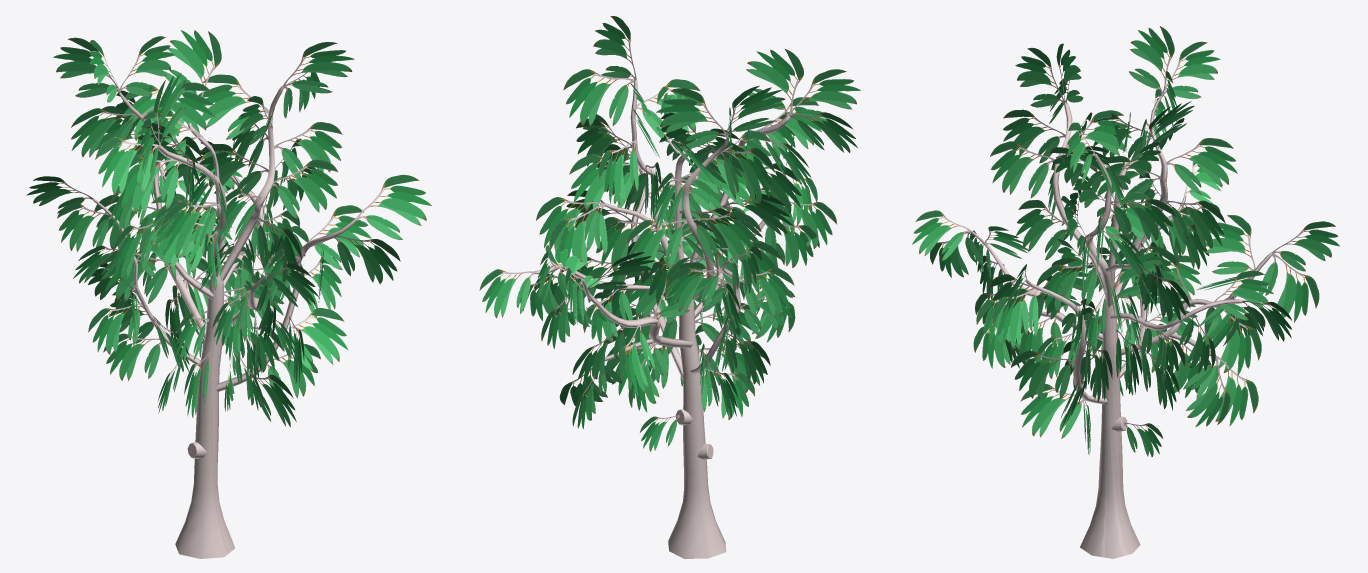
File: Tree3.obj
3 renders of one model, left to right at view 1: azimuth 30°, elevation 25°; view 2: azimuth 150°, elevation 25°; view 3: azimuth 270°, elevation 25°, orthographic. The views are drawn at different scales.
Visible parts, largest first — view 1: Main Tree_03, Tree_03 Branches B11 pPlane7, Tree_03 Branches B7 pPlane58, Tree_03 Branches B6 pPlane68, Tree_03 B4 Branches pPlane4, Tree_03 Branches B7 pPlane18, Tree_03 Branches B11 pPlane55, Tree_03 Branches B7 pPlane29, Tree_03 Branches B6 pPlane82, Tree_03 Branches B7 pPlane74, Tree_03 Branches B6 pPlane33, Tree_03 Branches B11 pPlane53 (+56 smaller); view 2: Main Tree_03, Tree_03 Branches B7 pPlane19, Tree_03 Branches B8 pPlane91, Tree_03 Branches B8 pPlane88, Tree_03 Branches B7 pPlane44, Tree_03 Branches B6 pPlane93, Tree_03 Branches B6 pPlane3, Tree_03 Branches B8 pPlane53, Tree_03 Branches B7 pPlane30, Tree_03 Branches B8 pPlane51, Tree_03 Branches B7 pPlane9, Tree_03 Branches B14 pPlane3 (+63 smaller); view 3: Main Tree_03, Tree_03 Branches B8 pPlane52, Tree_03 Branches B6 pPlane32, Tree_03 Branches B10 pPlane19, Tree_03 Branches B11 pPlane54, Tree_03 Branches B11 pPlane56, Tree_03 Branches B8 pPlane92, Tree_03 Branches B10 pPlane62, Tree_03 Branches B10 pPlane44, Tree_03 Branches B7 pPlane84, Tree_03 Branches B11 pPlane53, Tree_03 Branches B10 pPlane9 (+49 smaller).
Part boxes in pixels (x1,y1,x2,y2): Main Tree_03: (175,272,235,558); Tree_03 Branches B11 pPlane7: (356,174,431,239); Tree_03 Branches B7 pPlane58: (272,159,337,218); Tree_03 Branches B6 pPlane68: (95,137,158,195); Tree_03 B4 Branches pPlane4: (164,30,221,96); Tree_03 Branches B7 pPlane18: (282,42,354,93); Tree_03 Branches B11 pPlane55: (287,308,347,370); Tree_03 Branches B7 pPlane29: (198,74,269,139); Tree_03 Branches B6 pPlane82: (162,201,220,257); Tree_03 Branches B7 pPlane74: (274,122,342,177); Tree_03 Branches B6 pPlane33: (117,155,181,213); Tree_03 Branches B11 pPlane53: (334,236,400,283); Main Tree_03: (668,300,726,558); Tree_03 Branches B7 pPlane19: (563,69,635,126); Tree_03 Branches B8 pPlane91: (656,88,727,149); Tree_03 Branches B8 pPlane88: (692,211,761,263); Tree_03 Branches B7 pPlane44: (549,203,607,270); Tree_03 Branches B6 pPlane93: (746,48,803,116); Tree_03 Branches B6 pPlane3: (790,69,860,123); Tree_03 Branches B8 pPlane53: (720,147,774,204); Tree_03 Branches B7 pPlane30: (569,154,641,211); Tree_03 Branches B8 pPlane51: (625,220,687,274); Tree_03 Branches B7 pPlane9: (536,197,605,251); Tree_03 Branches B14 pPlane3: (479,269,535,318); Main Tree_03: (1080,296,1140,558); Tree_03 Branches B8 pPlane52: (1166,138,1237,194); Tree_03 Branches B6 pPlane32: (990,141,1054,197); Tree_03 Branches B10 pPlane19: (1259,253,1319,322); Tree_03 Branches B11 pPlane54: (1011,350,1074,398); Tree_03 Branches B11 pPlane56: (1020,383,1084,438); Tree_03 Branches B8 pPlane92: (1129,26,1174,96); Tree_03 Branches B10 pPlane62: (1205,215,1255,274); Tree_03 Branches B10 pPlane44: (1183,357,1230,426); Tree_03 Branches B7 pPlane84: (1036,263,1099,312); Tree_03 Branches B11 pPlane53: (992,288,1038,348); Tree_03 Branches B10 pPlane9: (1196,355,1258,425).
Size of the model in its own units: 13.04 by 19.34 by 16.4.
Materials: 2 (2 with a texture image).
